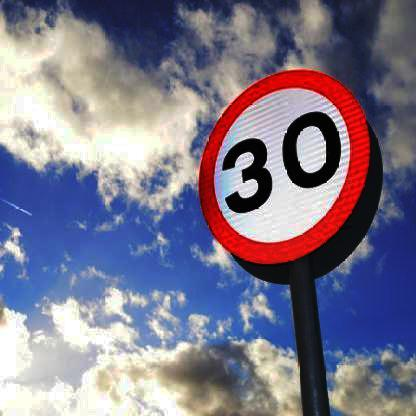Speed Limit -30-: (196, 70, 386, 270)
